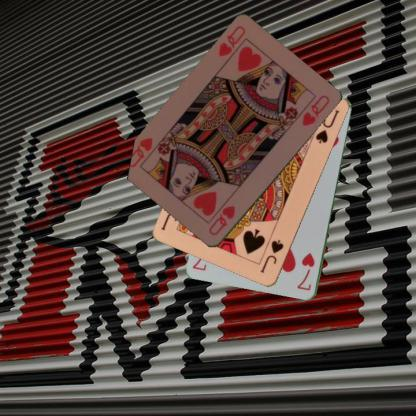7h: (294, 250, 316, 292)
Js: (257, 237, 286, 275)
Qh: (216, 23, 247, 58), (206, 203, 237, 237)
